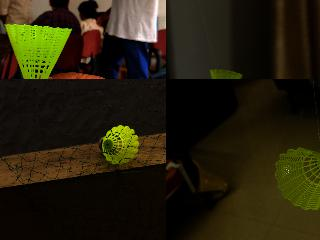shuttlecock: (4, 23, 73, 78), (275, 147, 319, 210), (98, 124, 138, 164), (208, 69, 242, 78)
